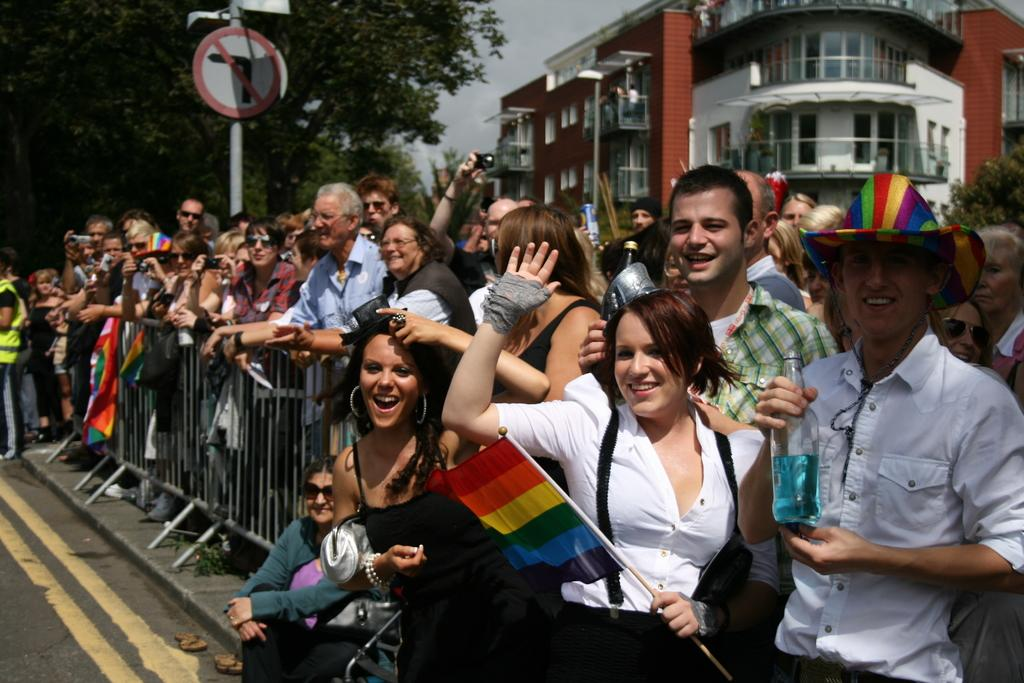Hat: (798, 172, 988, 312), (130, 230, 170, 259)
